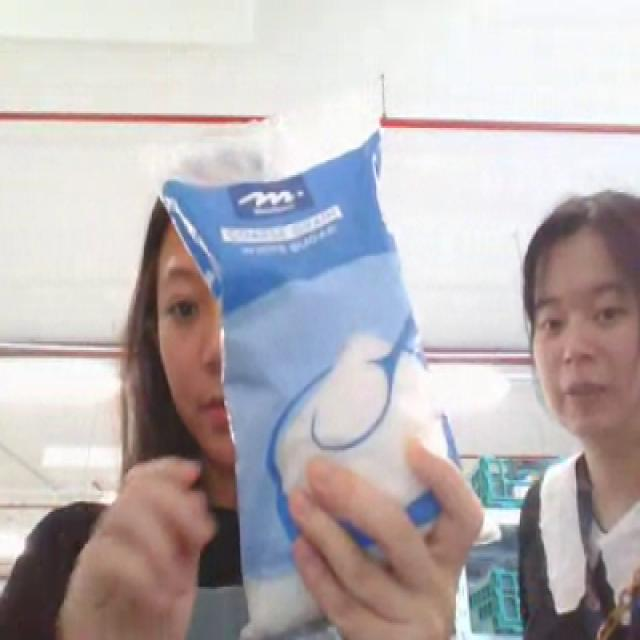object_name: (176, 132, 442, 615)
